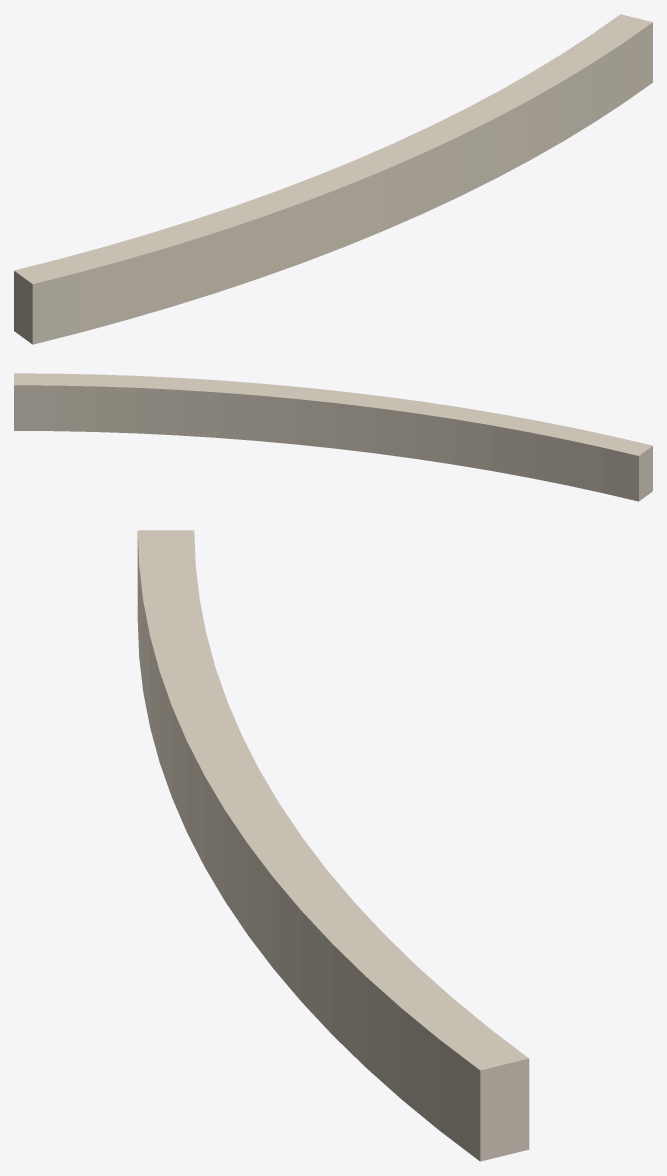
File: ArcBand_R4_A30.glb
The picture shows the model from 3 angles, top to bottom: view 1: azimuth 30°, elevation 25°; view 2: azimuth 150°, elevation 25°; view 3: azimuth 270°, elevation 25°; orthographic projection. The views are drawn at different scales.
Visible parts, largest first — view 1: PBK_Band.006; view 2: PBK_Band.006; view 3: PBK_Band.006.
Boxes of the visible parts, x1=… form: PBK_Band.006: x1=14, y1=14, x2=652, y2=344; PBK_Band.006: x1=14, y1=373, x2=652, y2=501; PBK_Band.006: x1=137, y1=530, x2=529, y2=1161.
Size of the model in its own units: 2.03 by 0.16 by 0.6225.
